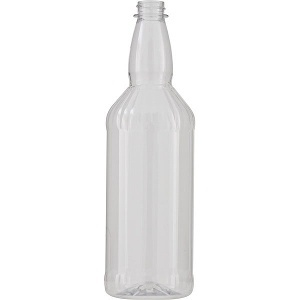emptybottle: (106, 1, 194, 300)
